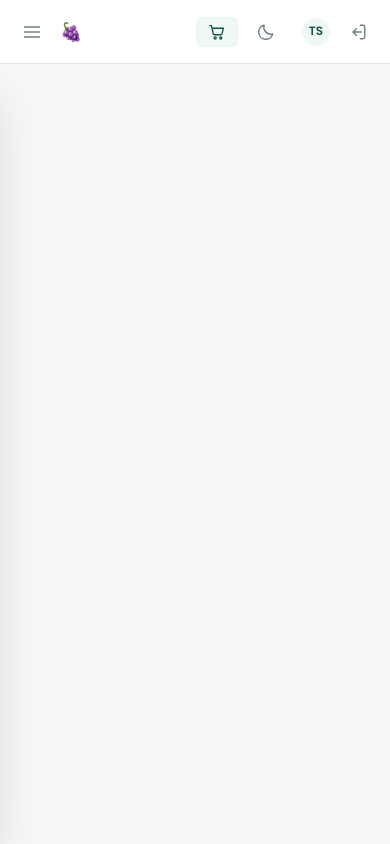
admin pages render › opens and closes the mobile sidebar
Click the button named "toggle the menu" at (32, 32), box [12,12,52,52]
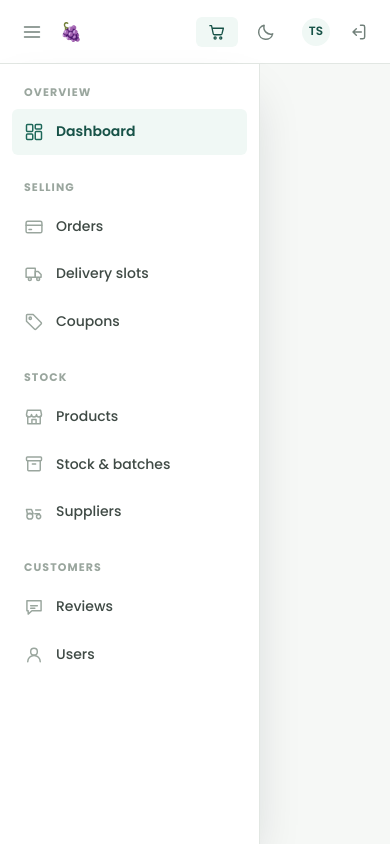
Check: the button with test id "sidebar-backdrop" is shown
Click the button with test id "sidebar-backdrop" at (367, 454), box [0,64,389,843]
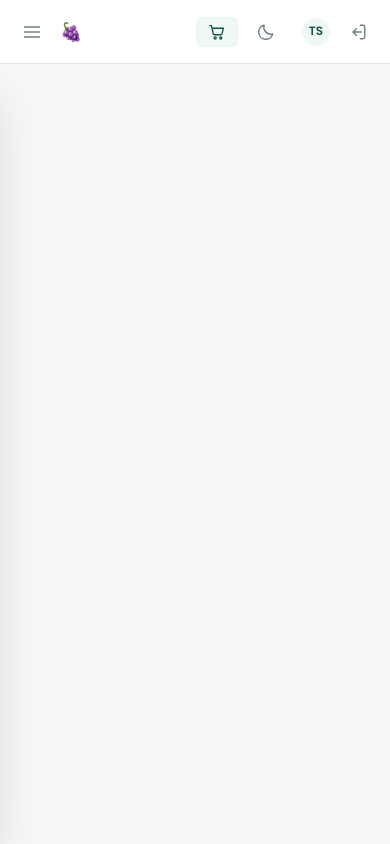
Check: the button with test id "sidebar-backdrop" is gone
